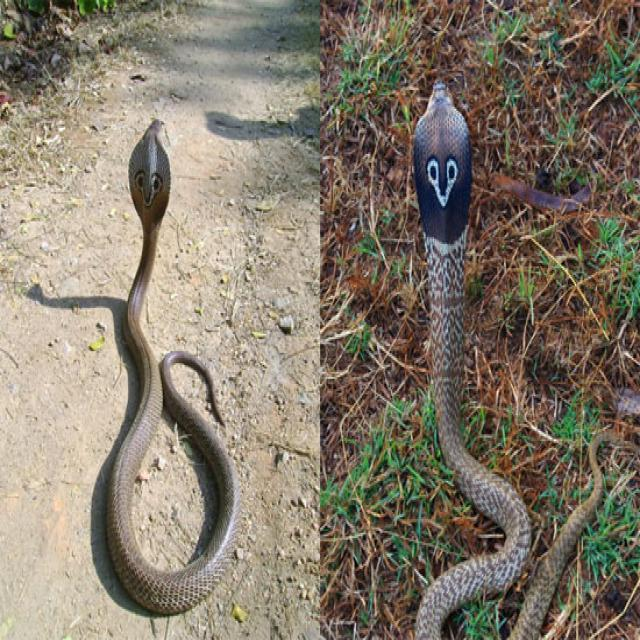Snake: (408, 72, 616, 640), (102, 108, 240, 624)
